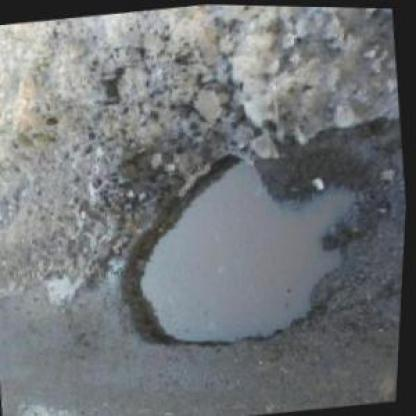pothole: (103, 130, 377, 362), (100, 58, 146, 104), (186, 79, 226, 125)
